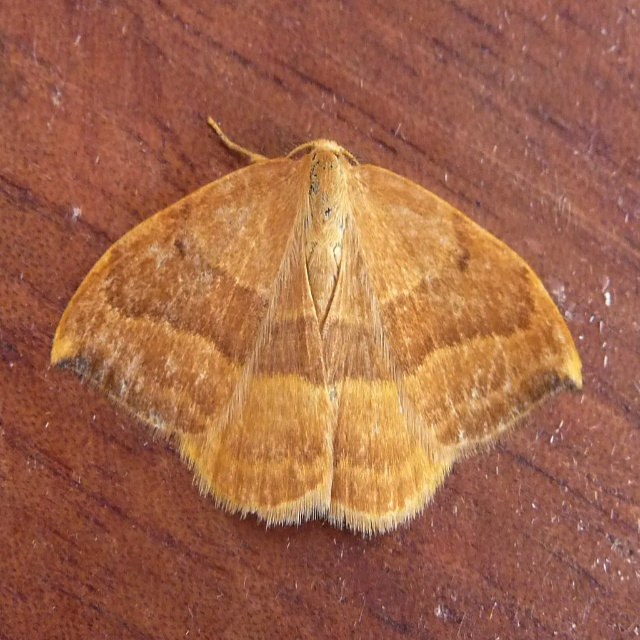Moths and butterflies: (48, 115, 587, 534)
